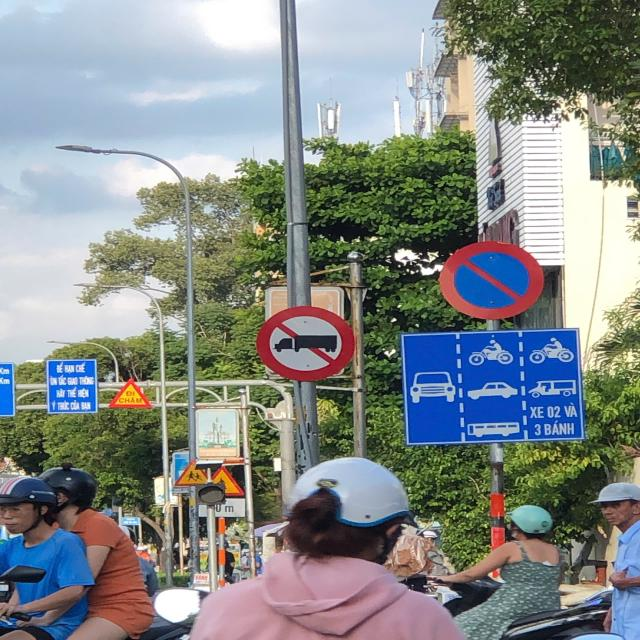Bien bao cam do xe: (428, 229, 552, 322)
Bien bao cam xe so-mi ro-mooc: (250, 290, 365, 388)
